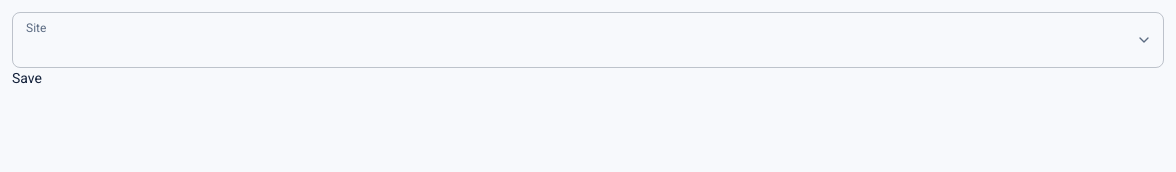
ComboboxField › says when nothing matches, and drops unmatched text on leaving the field
The image size is (1176, 172).
Type "zzz" into the dropdown labelled "Site" at coordinates (588, 40), box top-left (12, 12), bottom-right (1164, 68)
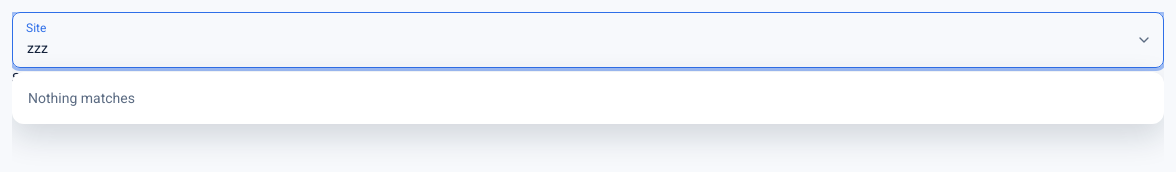
expect the option "Nothing matches" is shown: met, box top-left (28, 90), bottom-right (135, 106)
Press Tab
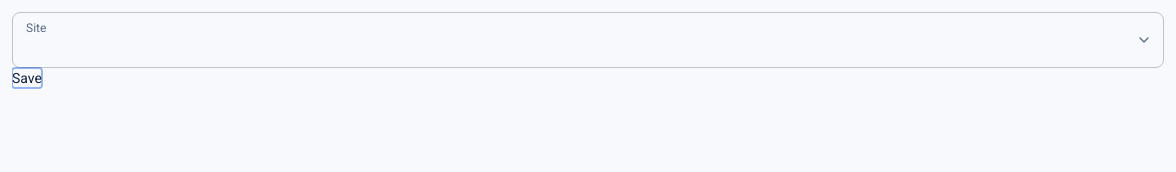
expect the dropdown labelled "Site" is empty: met, box top-left (12, 12), bottom-right (1164, 68)
